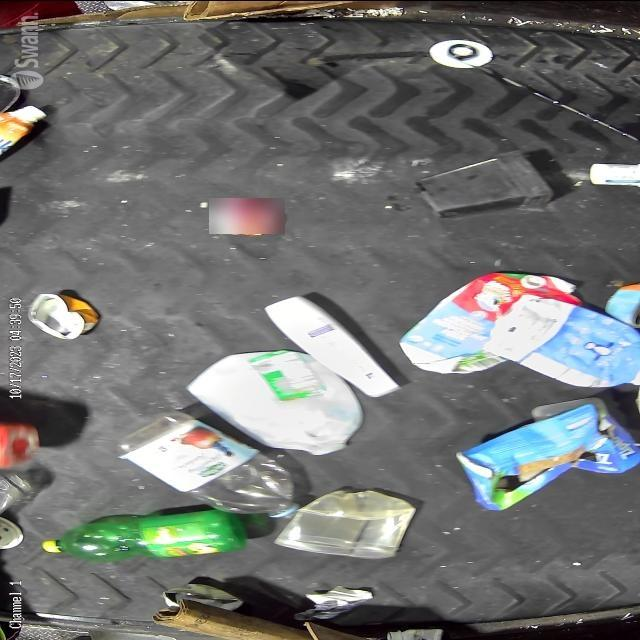milk_jug: (185, 347, 364, 453)
non_white_jug: (399, 272, 579, 374), (484, 299, 638, 387)
plastic_bottle: (114, 409, 301, 519)
